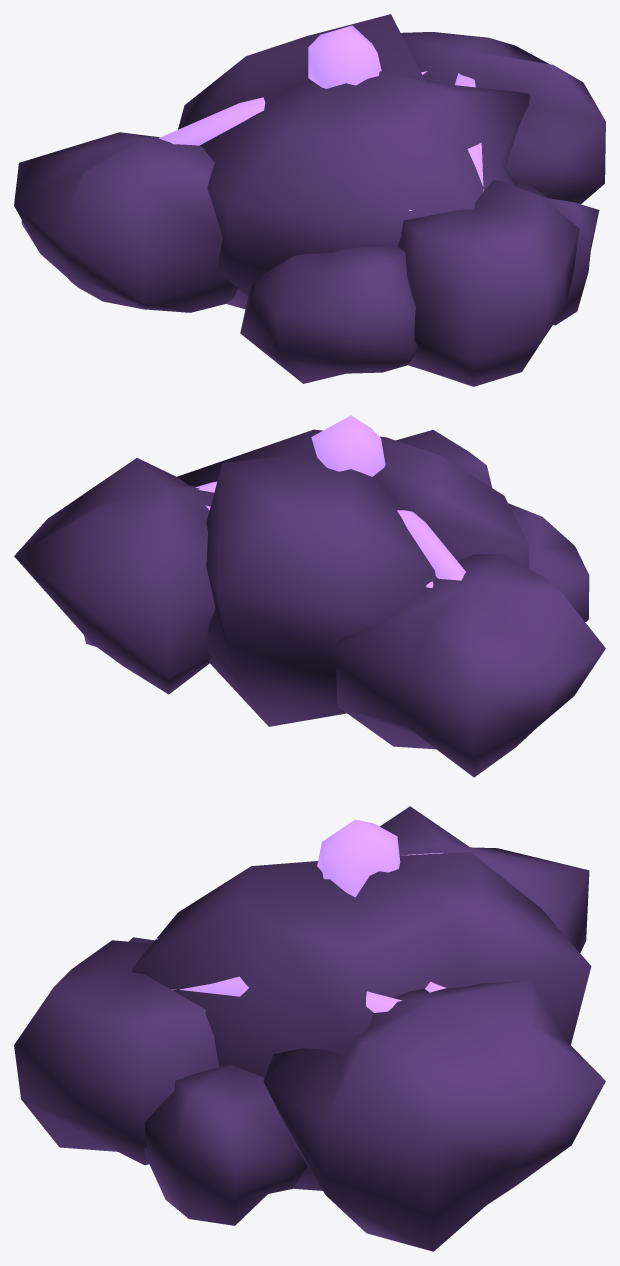
File: flora_brain.glb
3 views of the same model, one above another, from view 1: azimuth 30°, elevation 25°; view 2: azimuth 150°, elevation 25°; view 3: azimuth 270°, elevation 25° (orthographic). The views are drawn at different scales.
Parts seen in each view (by area): view 1: flora_brain; view 2: flora_brain; view 3: flora_brain.
Part boxes in pixels (left/top/right/bottom): flora_brain: left=14, top=14, right=605, bottom=386; flora_brain: left=14, top=415, right=605, bottom=777; flora_brain: left=14, top=806, right=605, bottom=1251.
Bounding box in the file's own units: 2.4 × 1.18 × 1.97.
